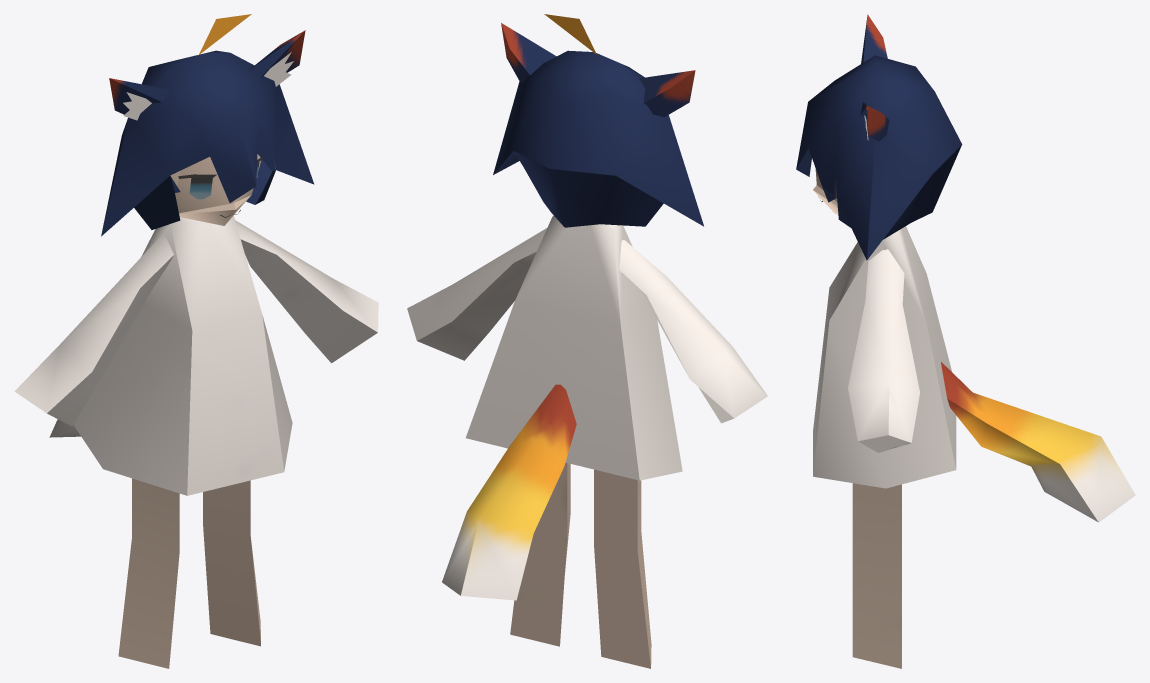
The model's file is 256kokon.glb.
The picture shows the model from 3 angles, left to right: view 1: azimuth 30°, elevation 25°; view 2: azimuth 150°, elevation 25°; view 3: azimuth 270°, elevation 25°; orthographic projection. The views are drawn at different scales.
Visible parts, largest first — view 1: Cube.001; view 2: Cube.001; view 3: Cube.001.
Boxes of the visible parts, x1,y1,x2,y2 form: Cube.001: (14,14,378,668); Cube.001: (407,14,767,668); Cube.001: (796,14,1135,668).
Bounding box in the file's own units: 0.6353 × 1.04 × 0.5332.
1 material, 1 textured.
